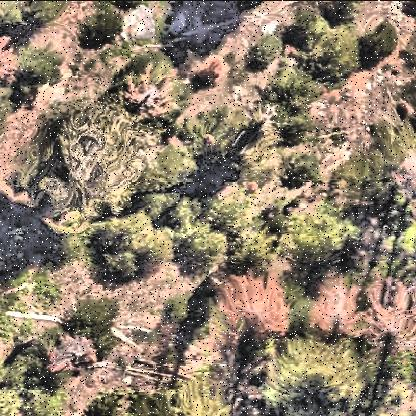tree-top: (18, 94, 157, 230), (172, 194, 270, 282), (268, 330, 372, 411), (88, 212, 180, 288), (282, 200, 360, 276), (262, 60, 320, 148), (297, 17, 365, 87), (136, 368, 232, 416), (354, 115, 416, 188), (135, 143, 202, 196), (378, 197, 416, 288), (65, 293, 119, 350), (9, 41, 63, 91), (74, 2, 128, 51), (273, 147, 325, 195), (356, 19, 402, 63), (240, 30, 284, 76), (22, 379, 68, 416), (1, 294, 23, 354), (18, 1, 72, 25), (83, 390, 131, 416), (2, 379, 24, 416), (2, 3, 24, 35)
